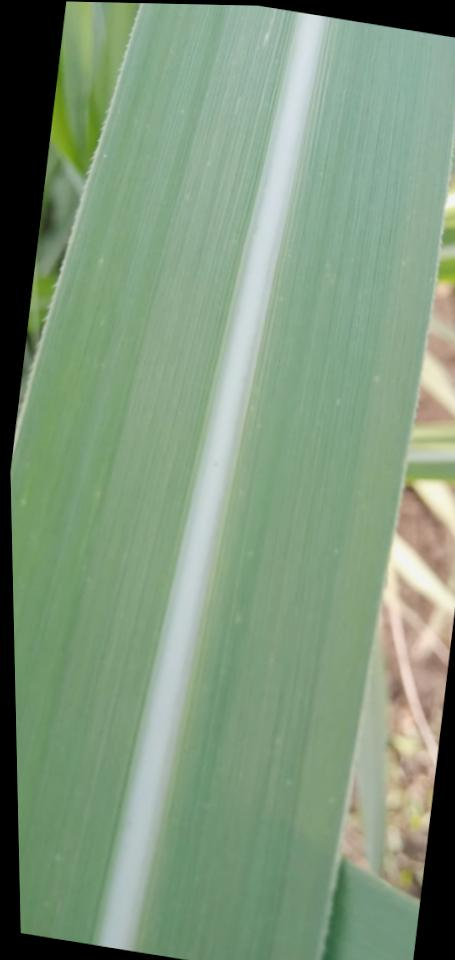Healthy: (10, 3, 455, 960), (323, 863, 418, 960)
